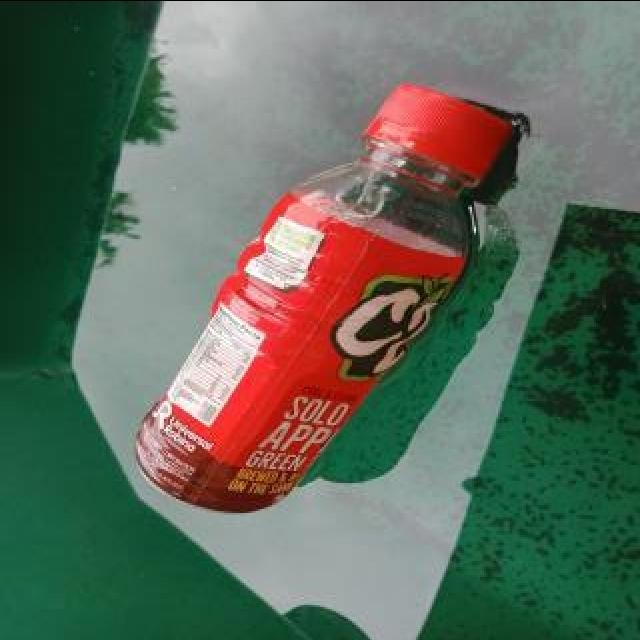Bottle: (124, 74, 528, 520)
